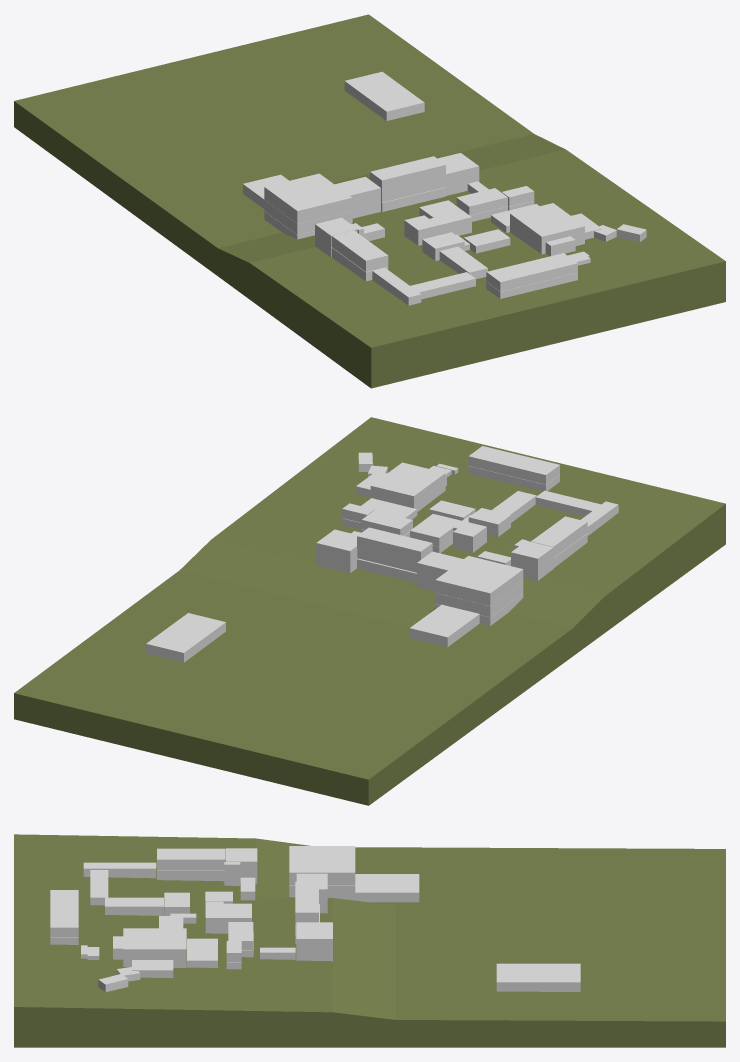
Rendered from scots-notex.gltf.
The picture shows the model from 3 angles, top to bottom: view 1: azimuth 30°, elevation 25°; view 2: azimuth 150°, elevation 25°; view 3: azimuth 270°, elevation 25°; orthographic projection.
Visible parts, largest first — view 1: New Ground, CPACTop C11 GR2 GR1 AR2 AR3 AR1, Gym GYM11 GYM03 GYM02, Hodge HSC, Mckinnon MK11 mk12 mk13 mk14 mk15, AitkenTop 20 21 22, PrepUpstairs P14 P13 P12 P11, GRooms 14 13 02 04 03, ScienceBuilding SL11 SL12 SL2 SL1, ICT G14 G16, PrepBlock2 P5 P6 P7 P8, PrepBlock1 M02 M03 (+11 smaller); view 2: New Ground, CPACTop C11 GR2 GR1 AR2 AR3 AR1, Gym GYM11 GYM03 GYM02, Hodge HSC, Mckinnon MK11 mk12 mk13 mk14 mk15, Hall, AitkenTop 20 21 22, ScienceBuilding SL11 SL12 SL2 SL1, PrepLibaray P9 P10 Library, PrepUpstairs P14 P13 P12 P11, GRooms 14 13 02 04 03, CPACMiddle MR2 MR1 RS (+11 smaller); view 3: New Ground, Hodge HSC, CPACTop C11 GR2 GR1 AR2 AR3 AR1, Gym GYM11 GYM03 GYM02, Hall, PrepUpstairs P14 P13 P12 P11, ScienceBuilding SL11 SL12 SL2 SL1, Mckinnon MK11 mk12 mk13 mk14 mk15, PrepBlock3 P4 P3 P2 P1, PrepBlock1 M02 M03, AitkenTop 20 21 22, Chatres (+14 smaller).
Part boxes in pixels (x1,y1,x2,y2): New Ground: [14, 14, 725, 388]; CPACTop C11 GR2 GR1 AR2 AR3 AR1: [264, 173, 352, 223]; Gym GYM11 GYM03 GYM02: [510, 203, 584, 254]; Hodge HSC: [344, 71, 424, 120]; Mckinnon MK11 mk12 mk13 mk14 mk15: [486, 253, 577, 291]; AitkenTop 20 21 22: [370, 156, 445, 191]; PrepUpstairs P14 P13 P12 P11: [331, 230, 388, 271]; GRooms 14 13 02 04 03: [334, 177, 380, 218]; ScienceBuilding SL11 SL12 SL2 SL1: [437, 153, 479, 195]; ICT G14 G16: [456, 188, 507, 215]; PrepBlock2 P5 P6 P7 P8: [410, 272, 475, 299]; PrepBlock1 M02 M03: [372, 267, 421, 305]; New Ground: [14, 417, 725, 805]; CPACTop C11 GR2 GR1 AR2 AR3 AR1: [435, 556, 523, 605]; Gym GYM11 GYM03 GYM02: [370, 462, 445, 511]; Hodge HSC: [146, 613, 225, 662]; Mckinnon MK11 mk12 mk13 mk14 mk15: [468, 446, 559, 484]; Hall: [409, 604, 479, 647]; AitkenTop 20 21 22: [357, 527, 432, 562]; ScienceBuilding SL11 SL12 SL2 SL1: [316, 529, 357, 573]; PrepLibaray P9 P10 Library: [511, 541, 553, 580]; PrepUpstairs P14 P13 P12 P11: [531, 516, 587, 557]; GRooms 14 13 02 04 03: [417, 551, 463, 591]; CPACMiddle MR2 MR1 RS: [435, 582, 523, 617]; New Ground: [14, 834, 725, 1047]; Hodge HSC: [496, 963, 580, 991]; CPACTop C11 GR2 GR1 AR2 AR3 AR1: [289, 846, 355, 885]; Gym GYM11 GYM03 GYM02: [123, 928, 186, 967]; Hall: [355, 874, 419, 902]; PrepUpstairs P14 P13 P12 P11: [157, 848, 225, 870]; ScienceBuilding SL11 SL12 SL2 SL1: [296, 922, 332, 961]; Mckinnon MK11 mk12 mk13 mk14 mk15: [50, 890, 78, 937]; PrepBlock3 P4 P3 P2 P1: [105, 897, 163, 915]; PrepBlock1 M02 M03: [83, 862, 156, 878]; AitkenTop 20 21 22: [295, 881, 318, 923]; Chatres: [187, 938, 217, 967].
Size of the model in its own units: 181 by 32.94 by 315.
